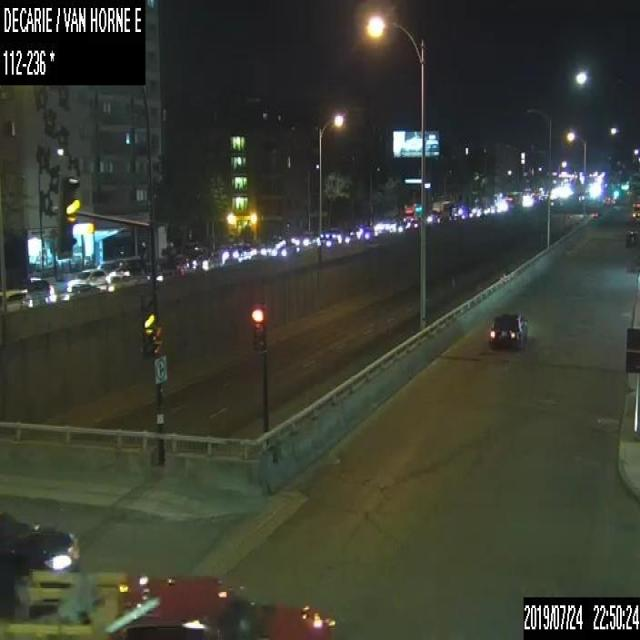vehicle: (0, 573, 336, 638), (0, 508, 80, 576), (490, 312, 528, 351), (18, 276, 54, 303), (66, 268, 106, 291), (0, 288, 32, 313), (62, 283, 105, 299), (97, 260, 130, 280), (222, 242, 255, 261), (146, 264, 181, 281), (102, 274, 134, 291), (402, 202, 420, 221), (430, 200, 450, 217), (625, 230, 639, 244), (631, 202, 639, 221)
